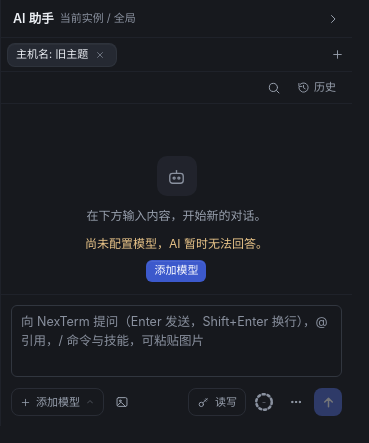
AiSidebar tab context menu › opens the context menu on right-click and updates the title from the regenerated value
Right-click the tab "主机名: 旧主题" at (62,54), box [7, 42, 117, 66]
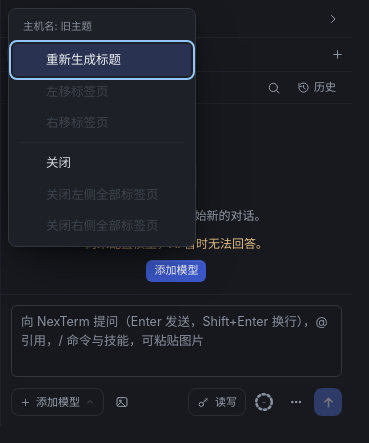
Now the menu item "重新生成标题" is enabled
Click the menu item "重新生成标题" at (102,60), box [13, 44, 191, 76]
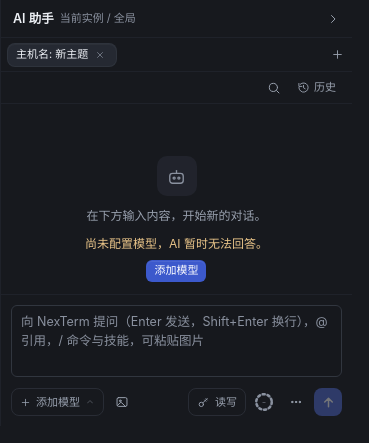
Now the text "主机名: 新主题" is shown, box [16, 46, 88, 63]
Now the menu is gone
